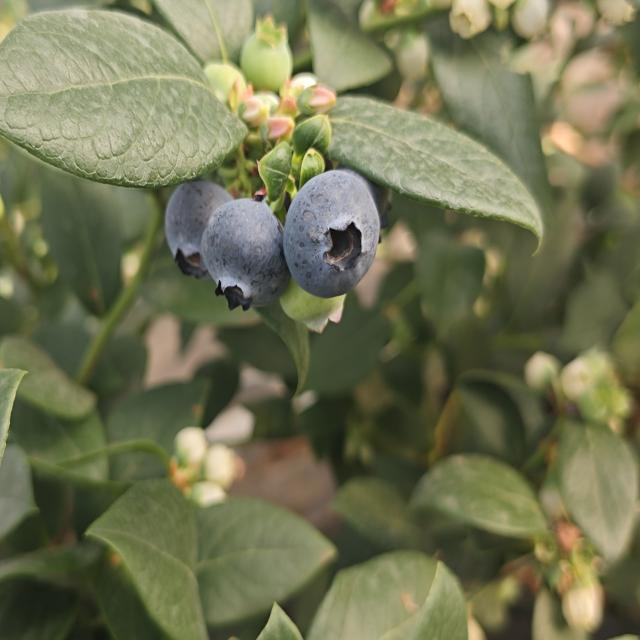ripe: (281, 167, 382, 302), (198, 196, 290, 314), (162, 178, 235, 281)
